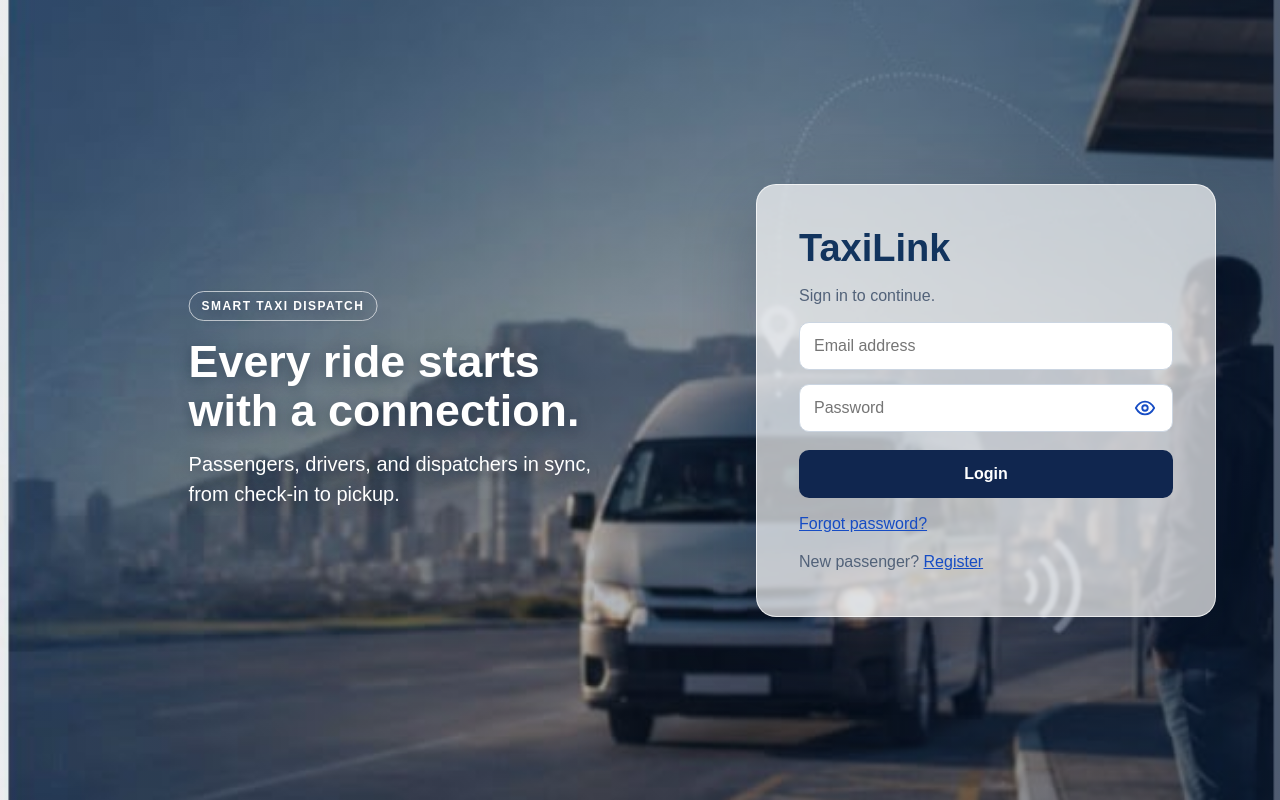
Test: LoginPage email verification › automatically resends confirmation after a blocked login
Type "Passenger@Example.COM" into the field with placeholder "Email address".
click(986, 346); type("Passenger@Example.COM")  # box [799, 322, 1173, 370]
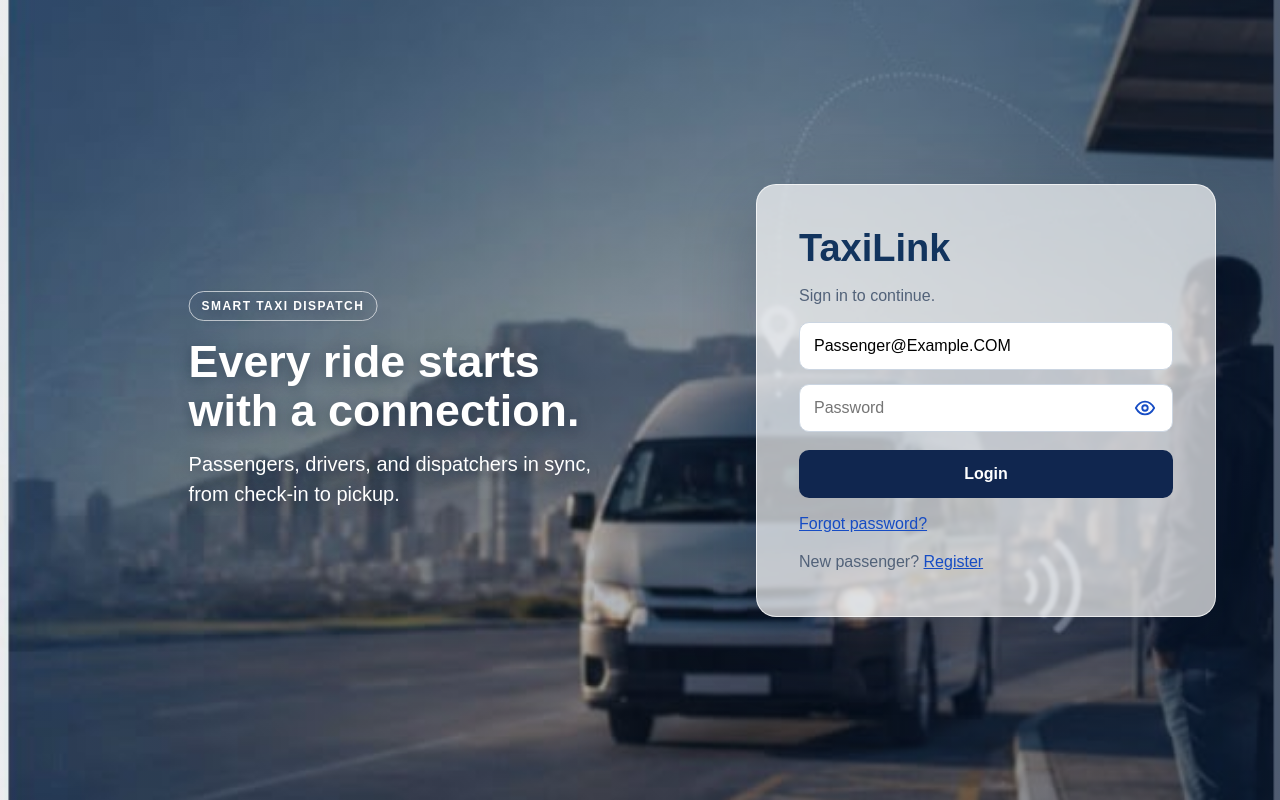
Type "StrongPass123!" into the password field with placeholder "Password".
click(986, 408); type("StrongPass123!")  # box [799, 384, 1173, 432]
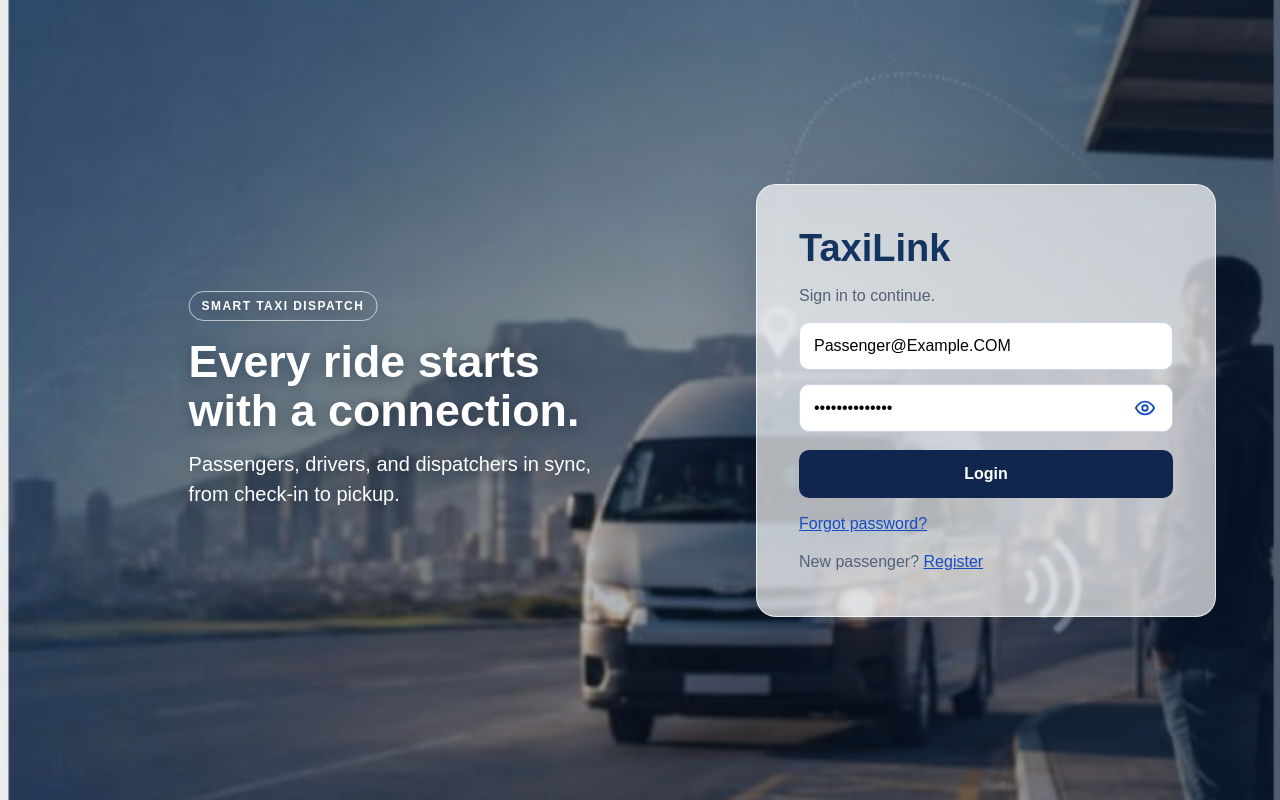
Click the button "Login".
click(986, 474)  # box [799, 450, 1173, 498]
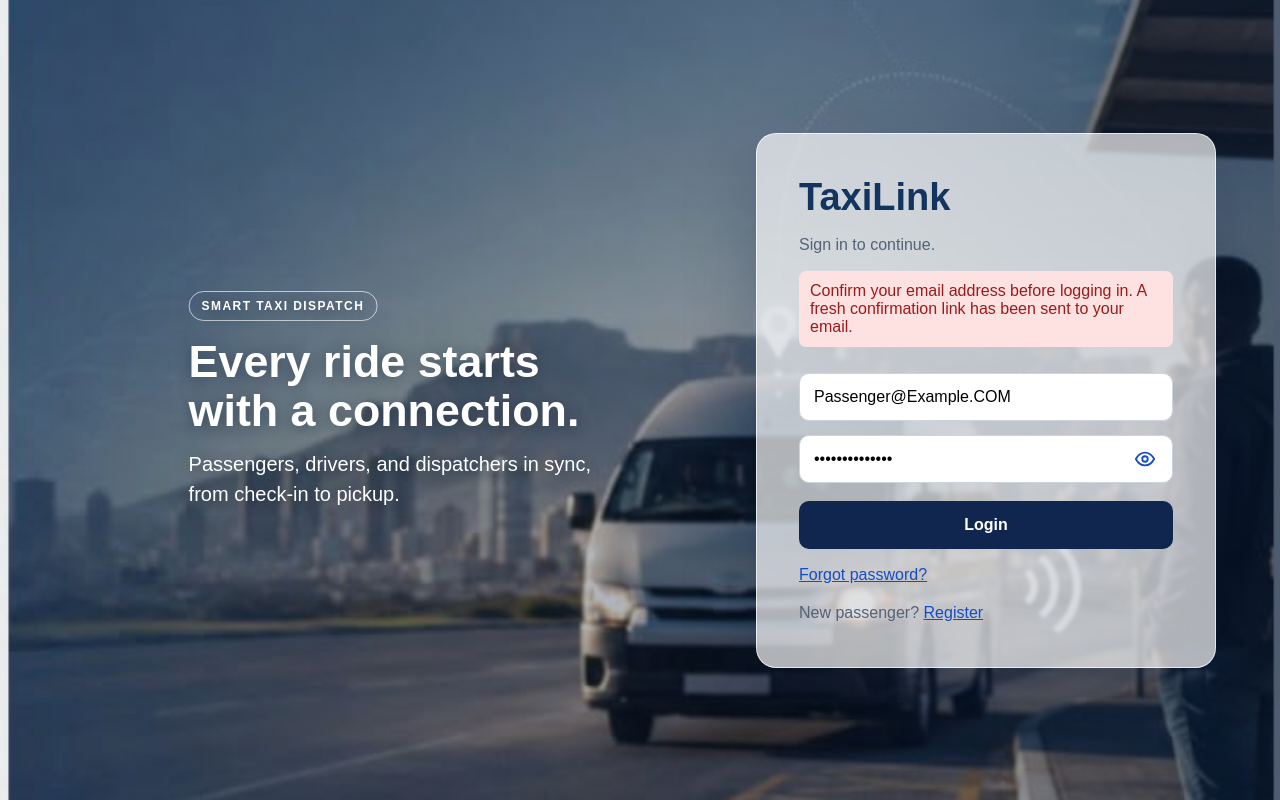
Result: the text "fresh confirmation link has been sent" is shown at [810, 282, 1147, 334]
